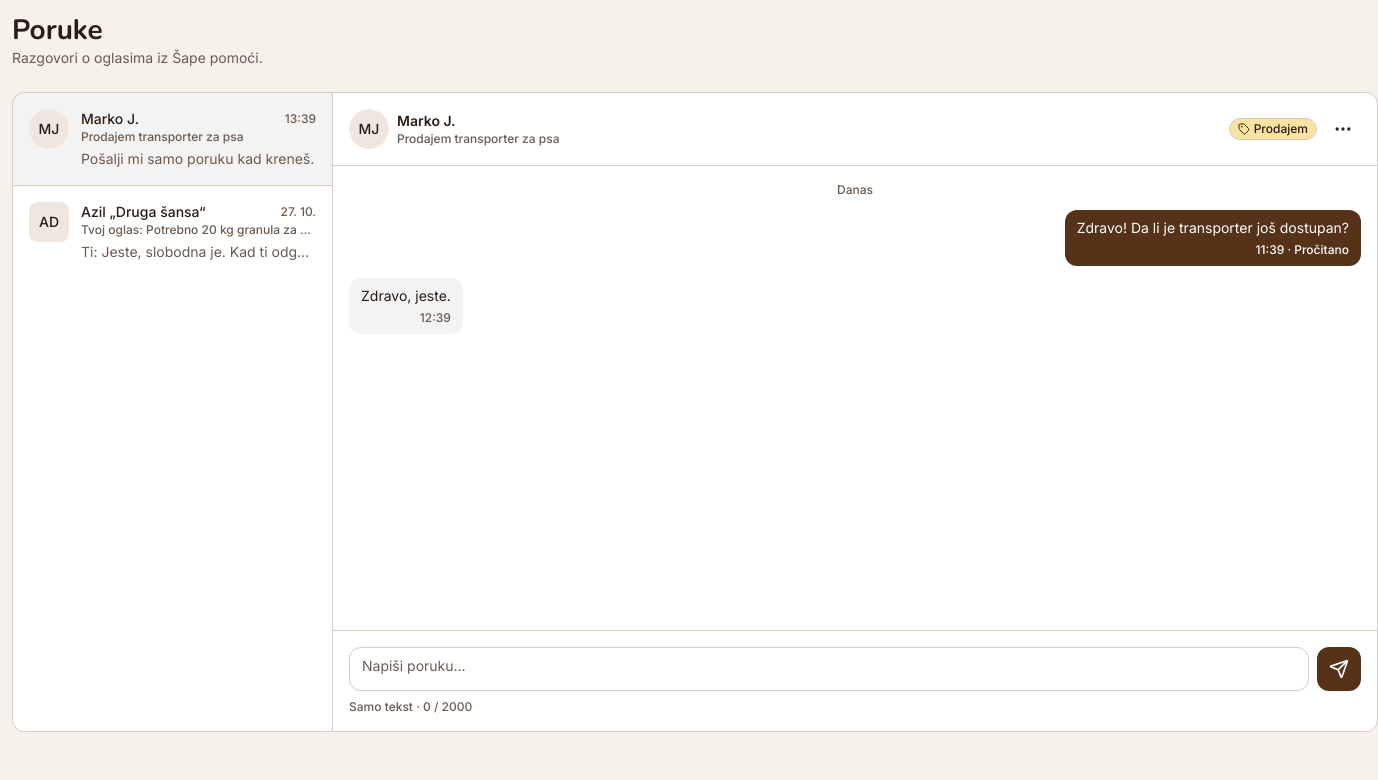
Test: FR-68 #7 — composer › sends through EP-82 with the conversation id and an idempotency key; the message appears at the bottom
Type "Kada mogu da ga pogledam?" into the text box named "Nova poruka" at (829, 669), box [349,647,1309,691]
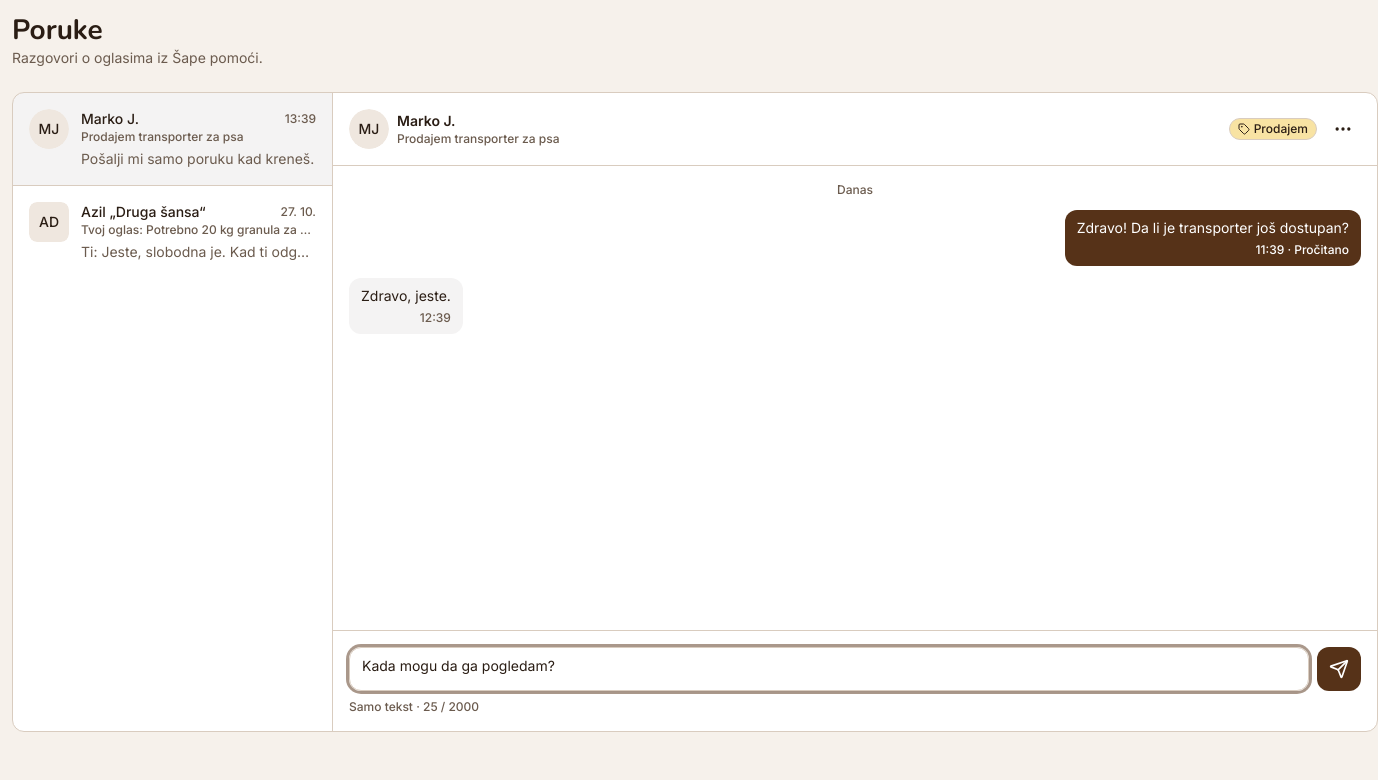
Click the button named "Pošalji poruku" at (1339, 669), box [1317,647,1361,691]
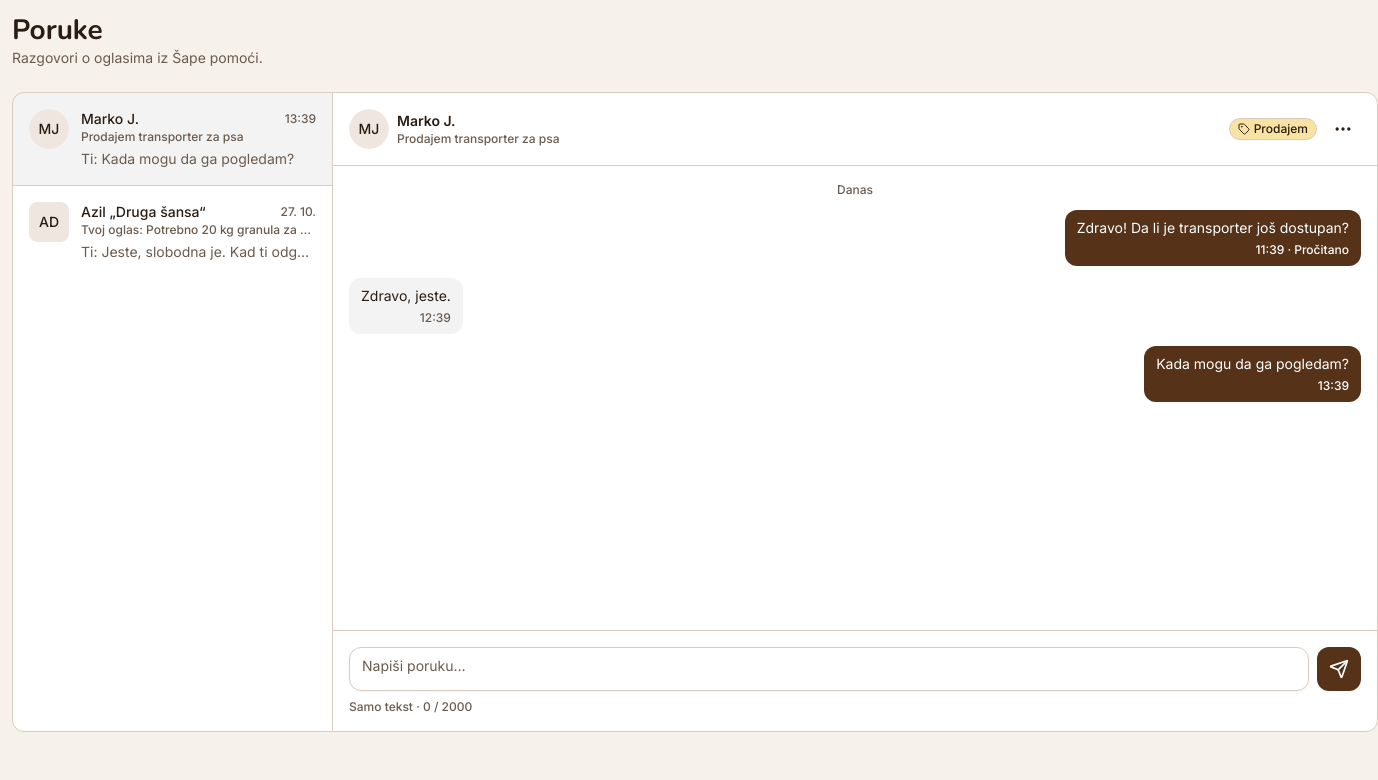
Now the list item "Kada mogu da ga pogledam? 13:39" is shown, box [1144,346,1361,402]
Now the text box named "Nova poruka" is empty, box [349,647,1309,691]
